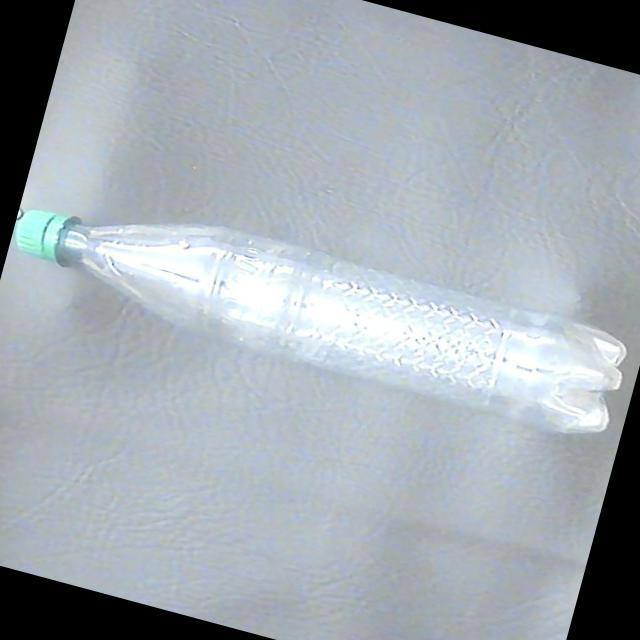good: (0, 171, 639, 453)
